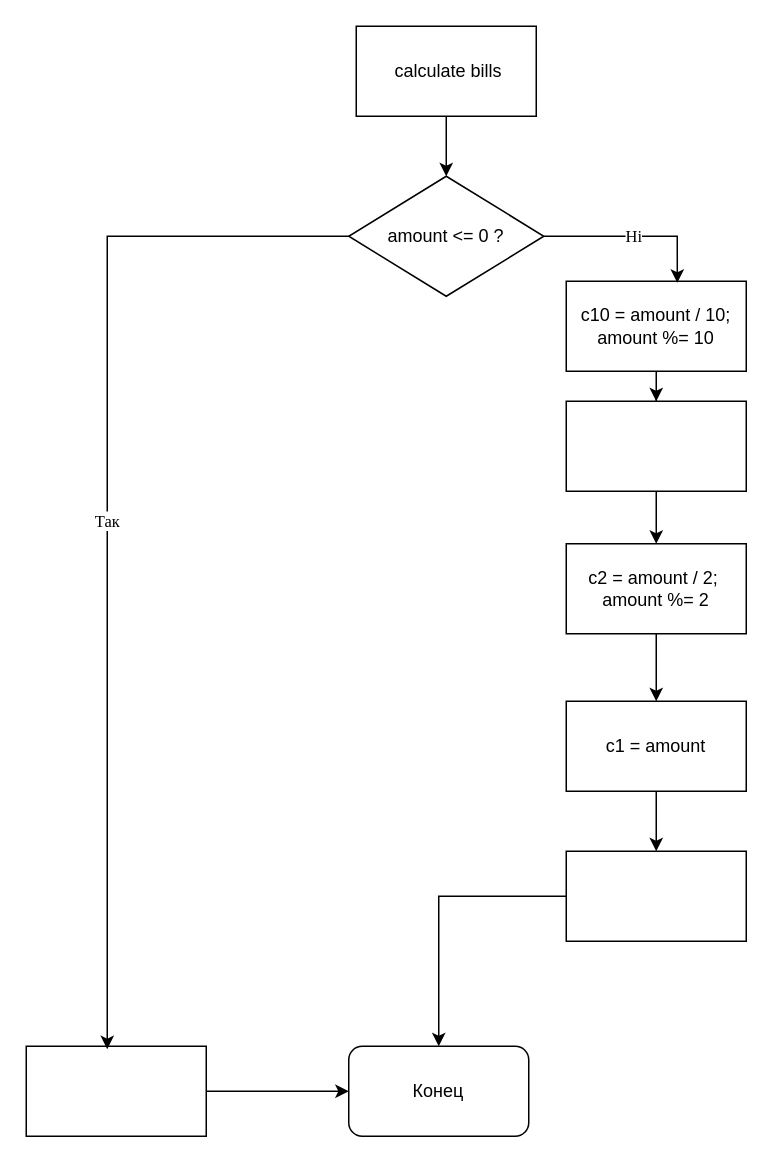
This 773x1163 diagram has some shape labels left out. The shapes that lost their labels are listed below. From the top down, each one's box as (x1, y1, x2, y2) in pixels, then its label:
(565, 400, 746, 491): *c5 = amount / 5; amount %= 5
(565, 850, 746, 941): return *c10 + *c5 + *c2 + *c1
(25, 1045, 206, 1136): Return -1
